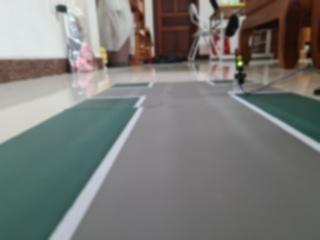green: (230, 44, 250, 71)
